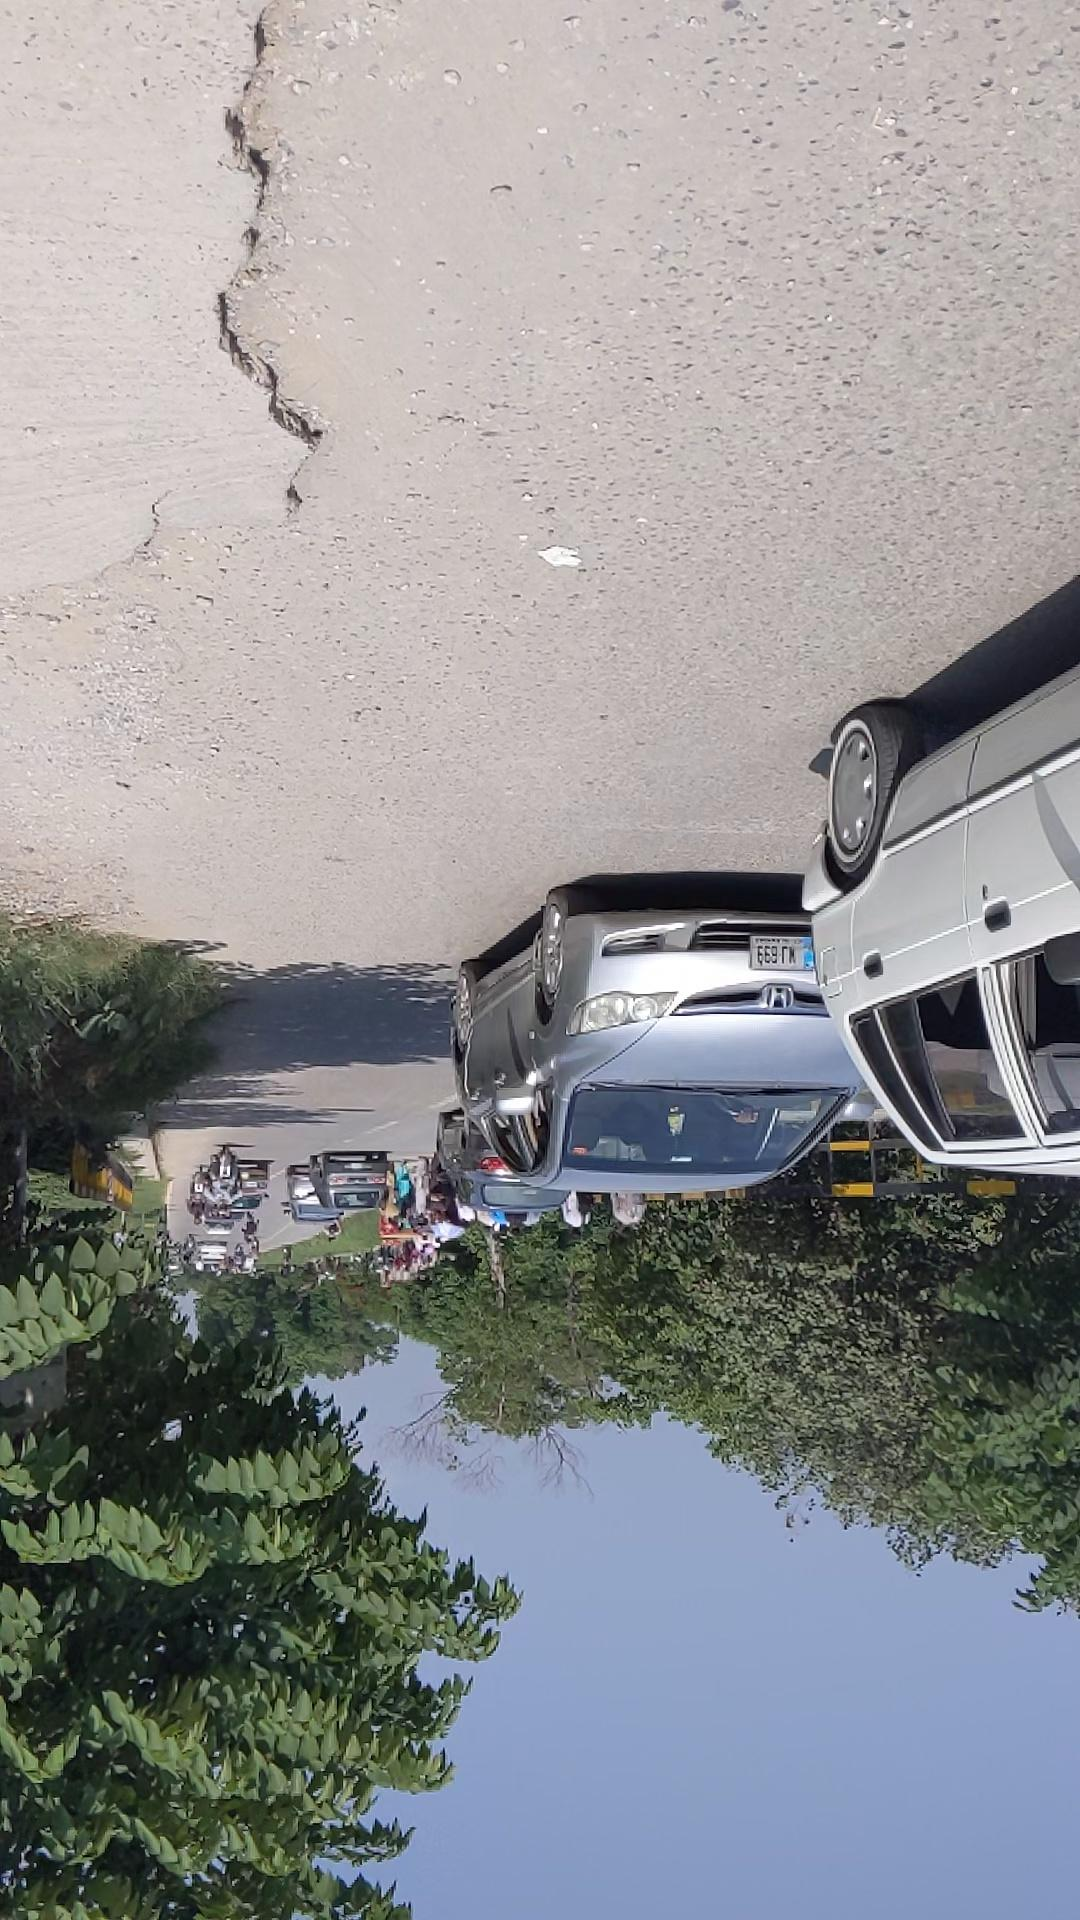windshield: (224, 746, 525, 833)
